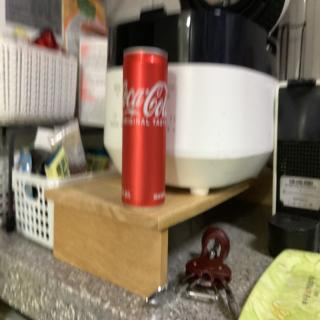cocacola: (120, 42, 170, 215)
